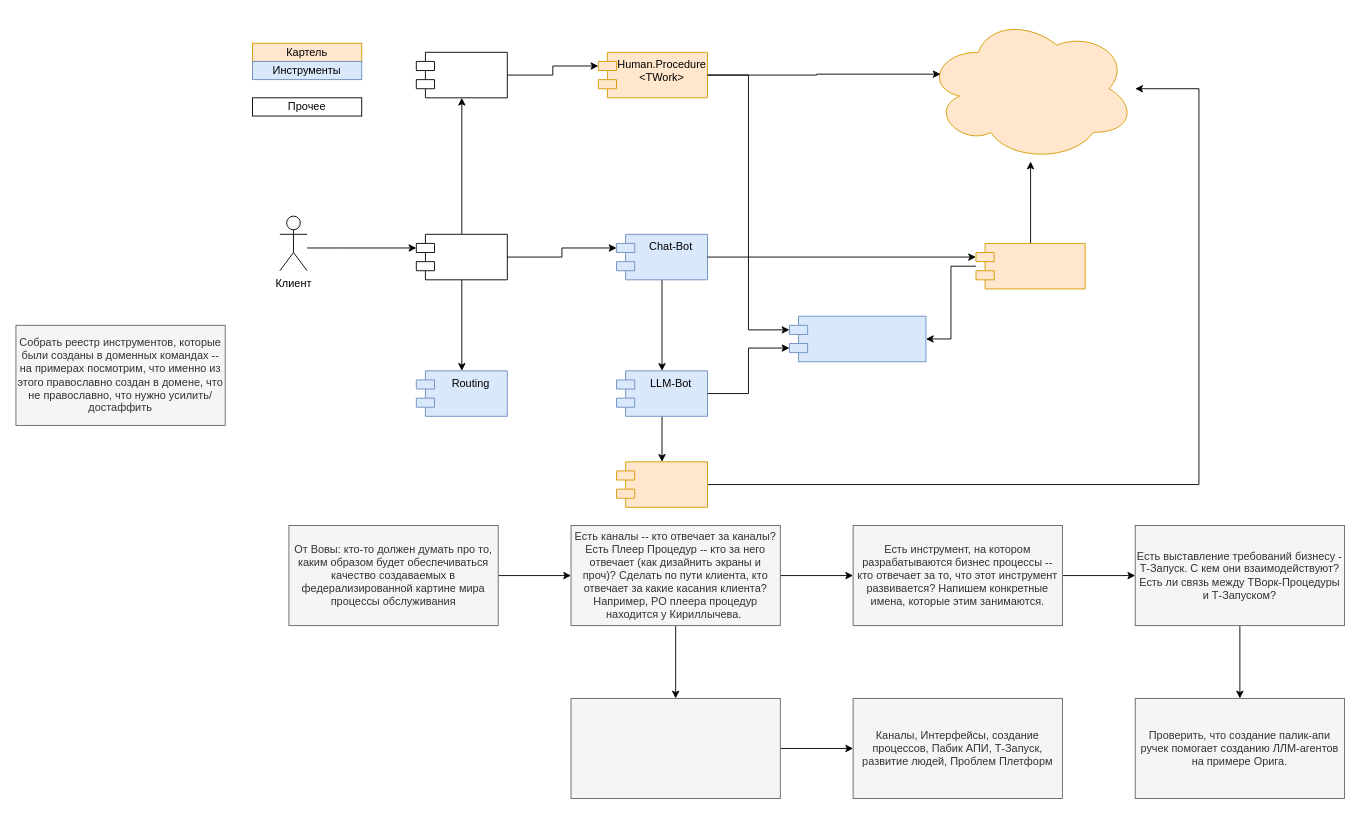
The diagram is 1360 pixels wide and 814 high, and some of its shapes have lost their labels. Each missing label, with the centre of its shape:
Bot.Procedure <TWork>: the point at 1030,266
LLM-Skill: the point at 662,484
Public API: the point at 1030,88
T-Context <Problem-Platform>: the point at 857,338
TMsg: the point at 461,256
TWork: the point at 461,74
Карта команд И взаимодействие между командами.: the point at 675,748
